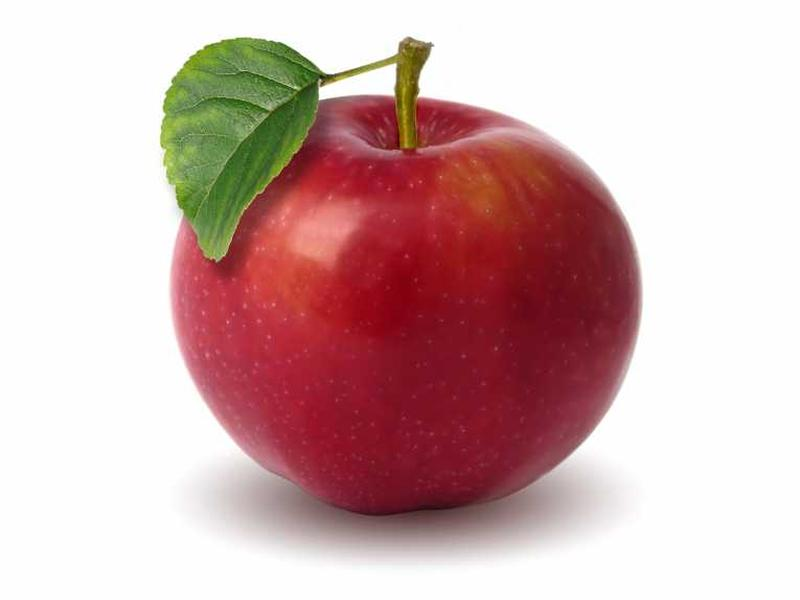apple: (126, 31, 673, 518)
